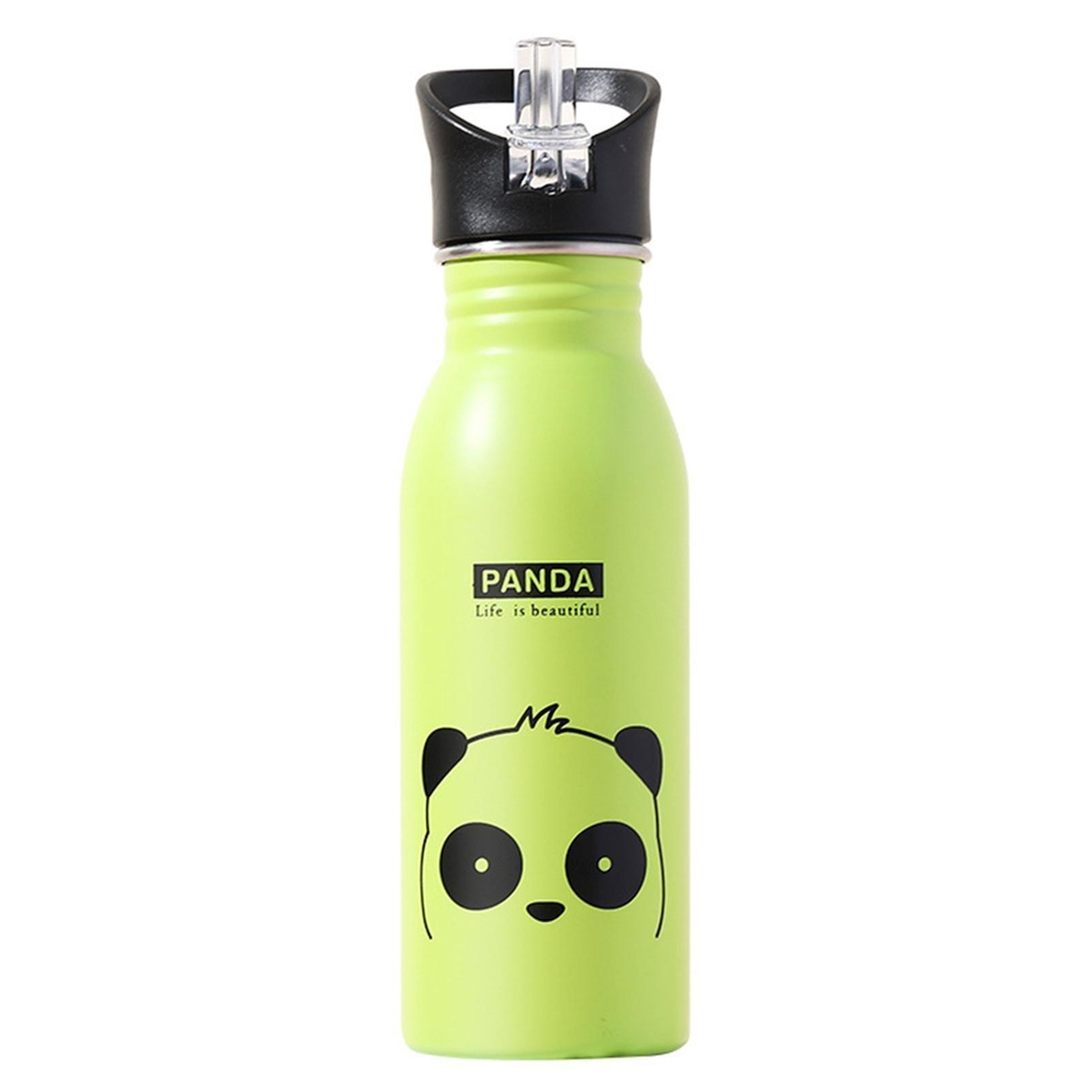gym bottle: (390, 20, 700, 1072)
